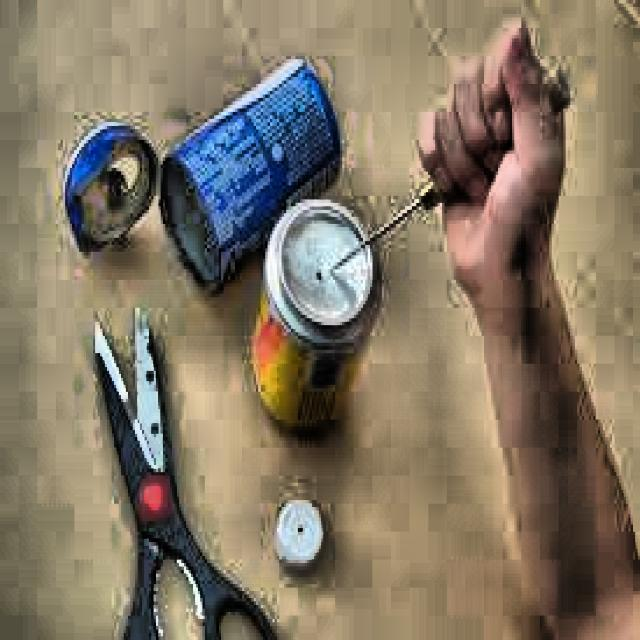can: (248, 186, 384, 448)
